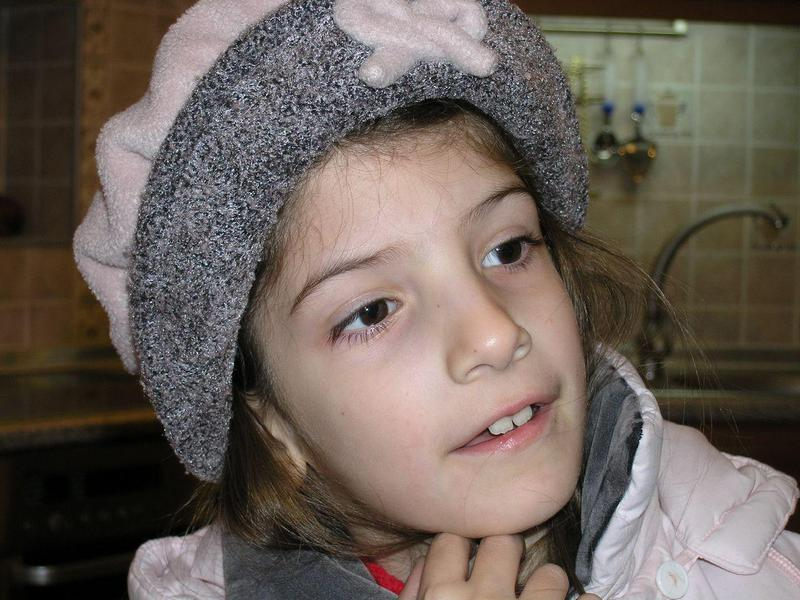person: (76, 1, 800, 598)
